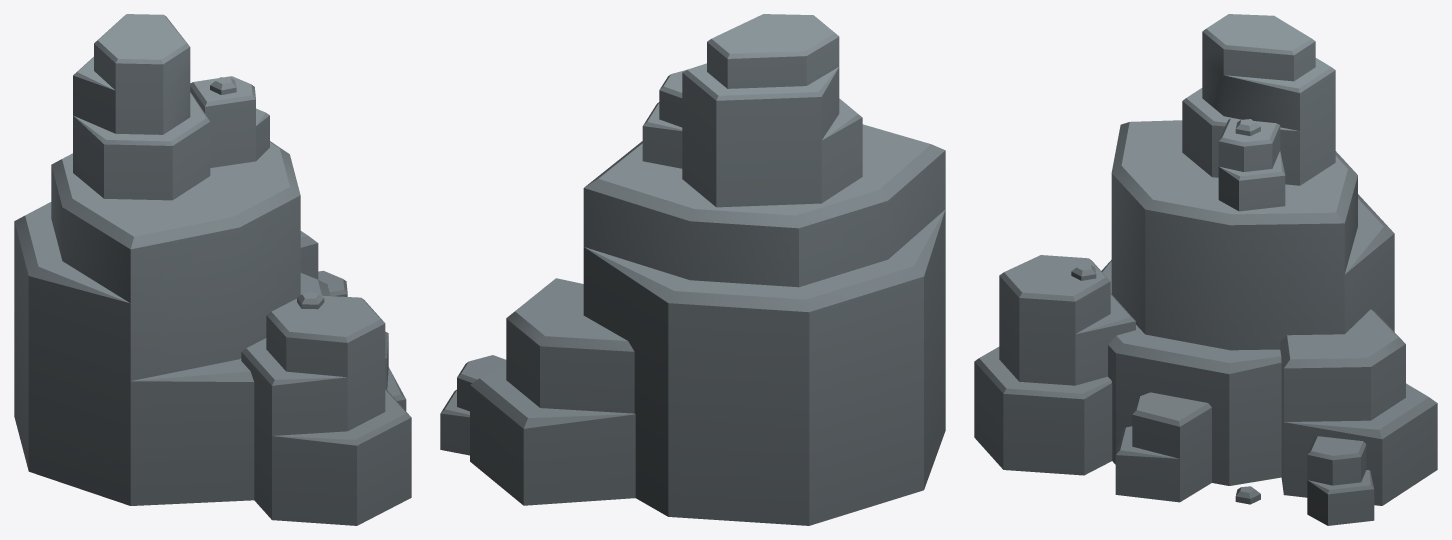
The model's file is rock-1-j.glb.
3 views of the same model, side by side, from view 1: azimuth 30°, elevation 25°; view 2: azimuth 150°, elevation 25°; view 3: azimuth 270°, elevation 25° (orthographic). The views are drawn at different scales.
Visible parts, largest first — view 1: Rock_1_J_Color1; view 2: Rock_1_J_Color1; view 3: Rock_1_J_Color1.
Boxes of the visible parts, box(x1,y1,x2,y2) form: Rock_1_J_Color1: box(14, 14, 411, 525); Rock_1_J_Color1: box(440, 14, 945, 525); Rock_1_J_Color1: box(974, 14, 1437, 525).
Bounding box in the file's own units: 3.39 × 3.36 × 3.76.
Materials: 1 (1 with a texture image).
